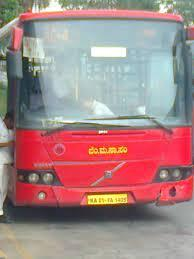Bus: (0, 8, 194, 208)
